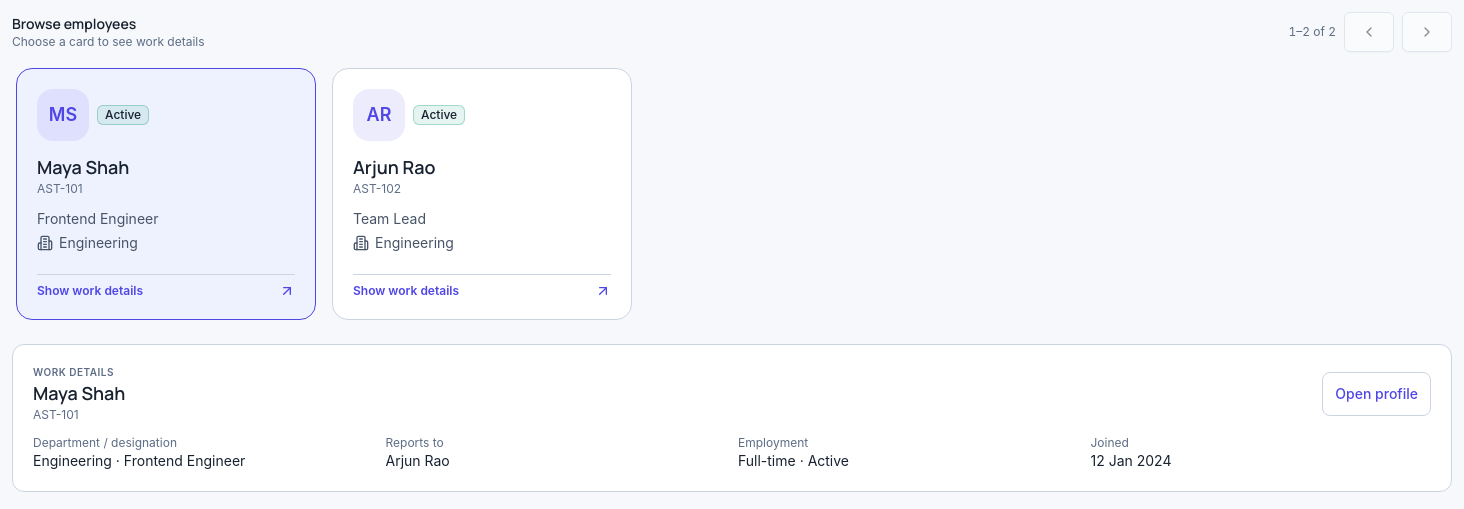
Scenario: selects work details and keeps the profile link tied to the selected employee
The image size is (1464, 509).
expect the element named "Work details for Maya Shah" is shown: met, box left=12, top=344, right=1452, bottom=492
Click the button with aria-label "Show work details for Arjun Rao (AST-102)" at [379, 115], box left=332, top=68, right=632, bottom=320
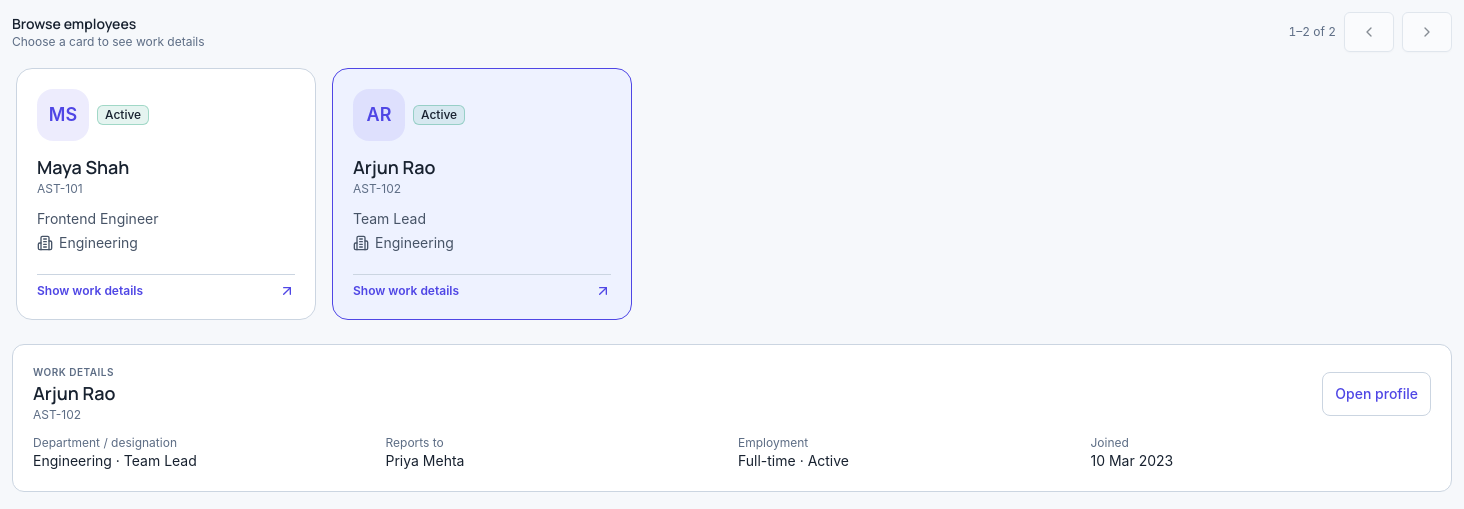
expect the element "Work details for Maya Shah" is not shown: met
expect the element named "Work details for Arjun Rao" is shown: met, box left=12, top=344, right=1452, bottom=492
